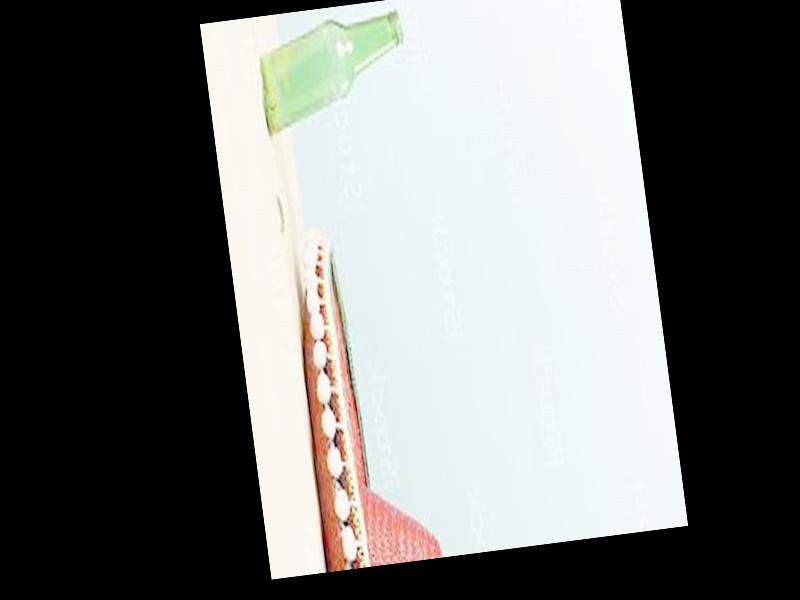Beer: (251, 13, 415, 138)
